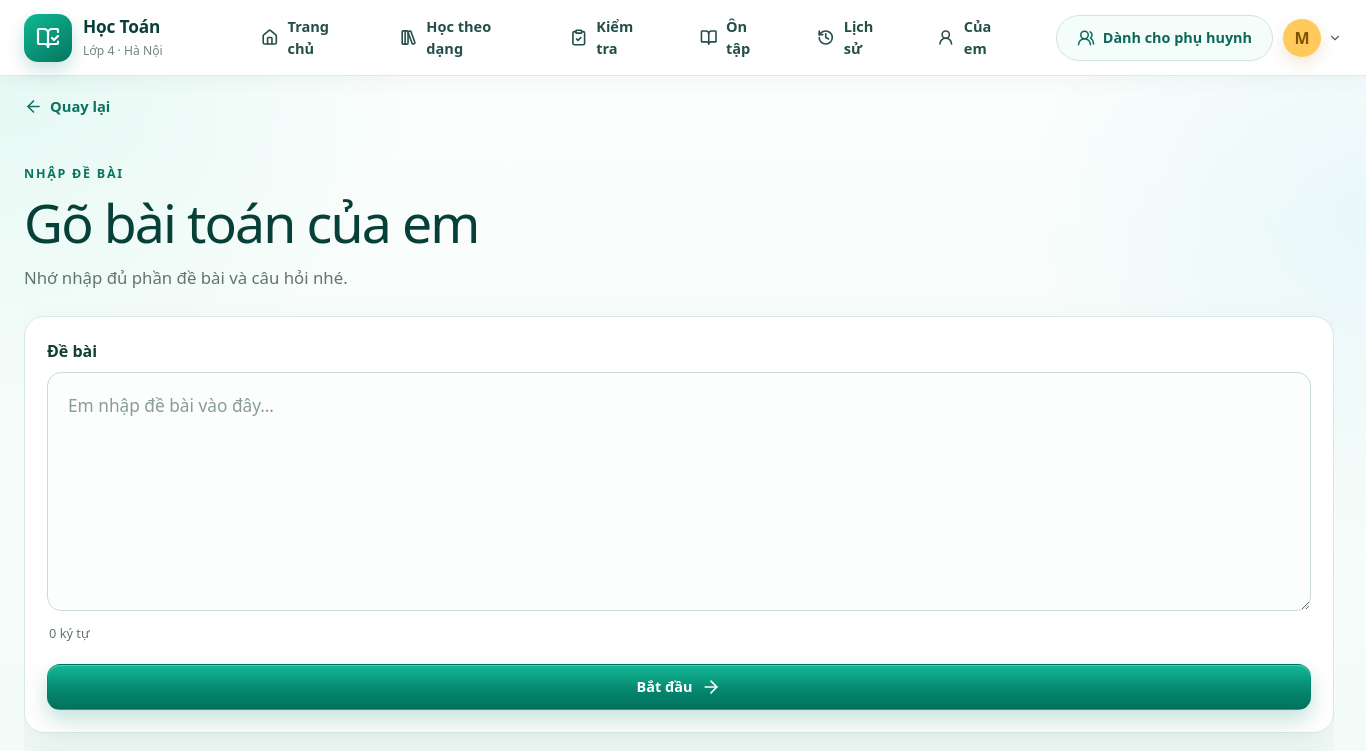
it: student frontend › accepts a text problem and starts a learning session
Type "Lan có 24 quyển vở và chia đều cho 4 bạn. Hỏi mỗi bạn có mấy quyển?" into the text box labelled "Đề bài" at (679, 491), box [47,372,1311,611]
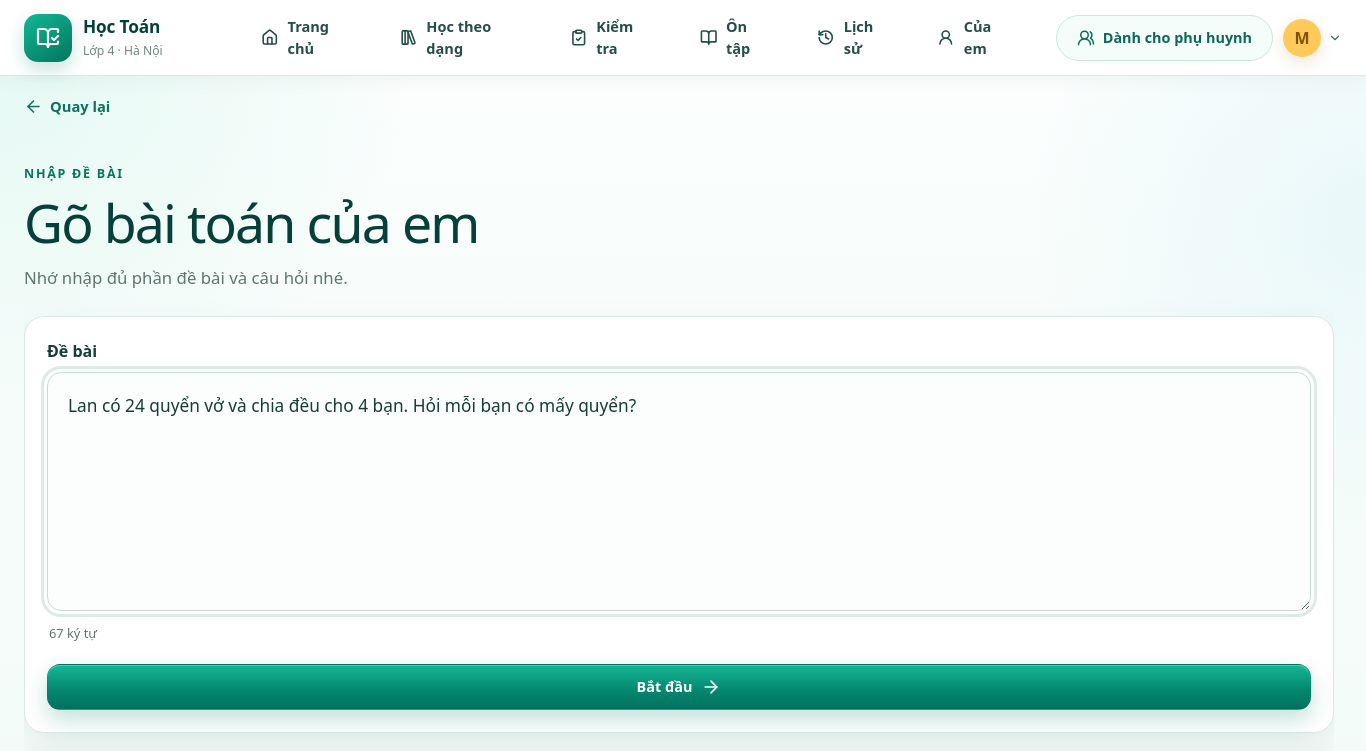
Click the button "Bắt đầu" at (679, 687), box [47,664,1311,710]
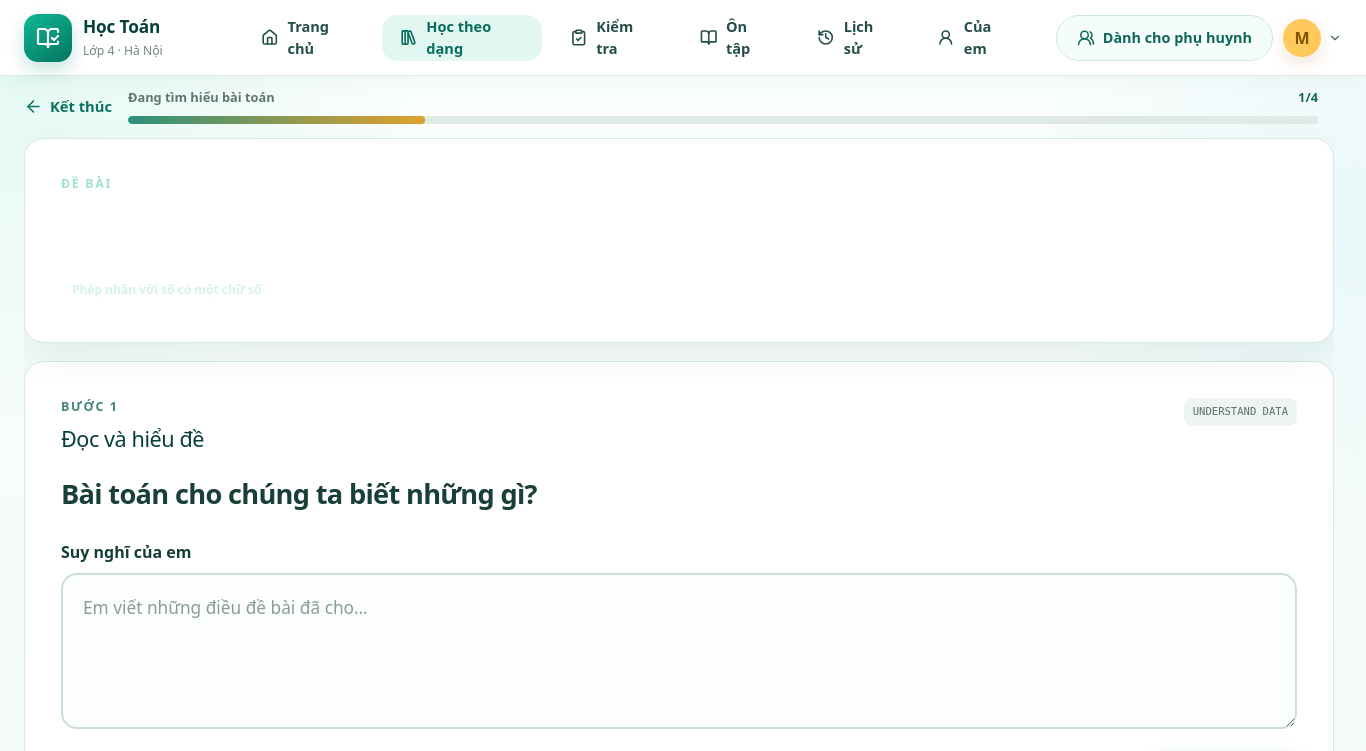
Expected: the text "Bài toán cho chúng ta biết những gì?" is shown, [61,475,537,512]
